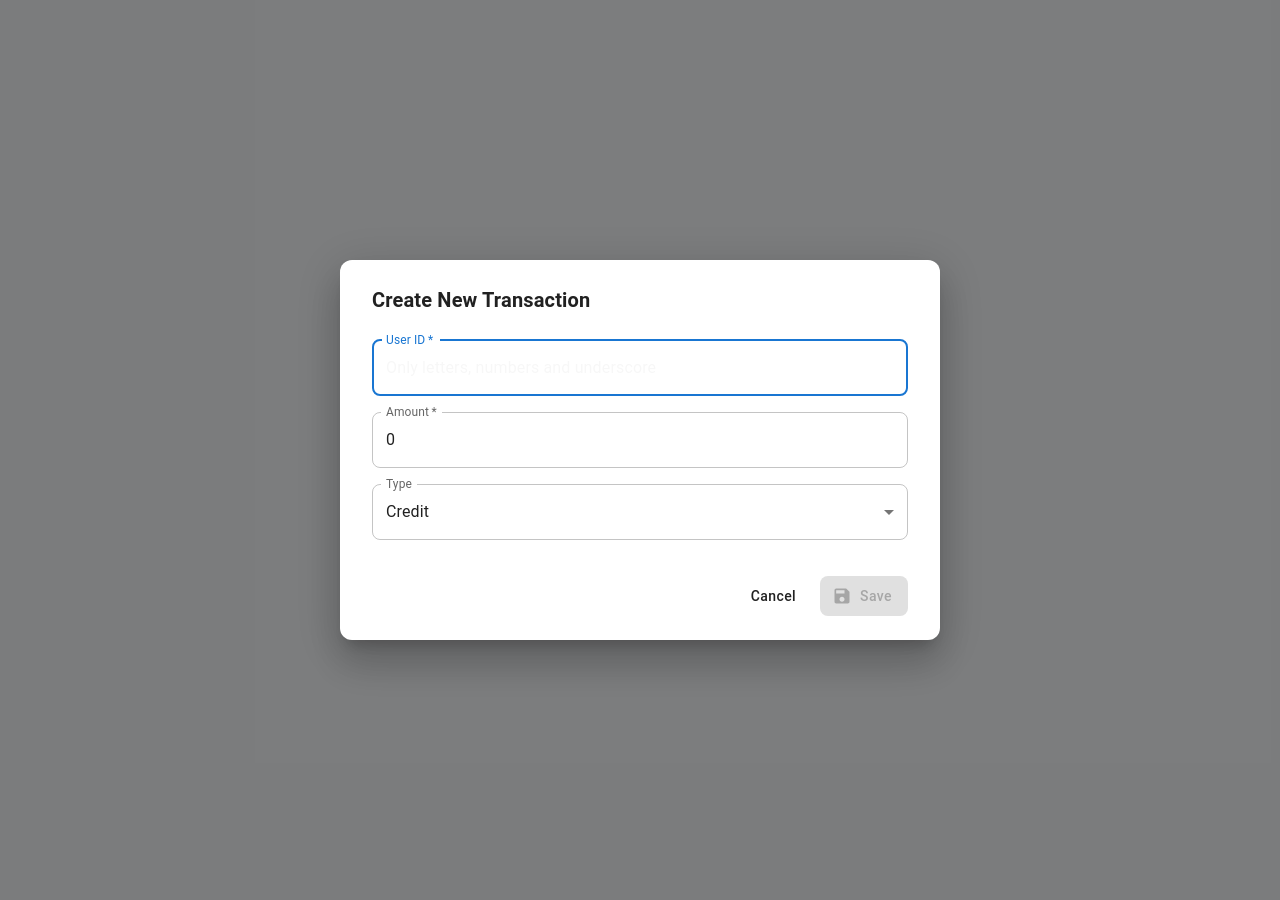
Test case: TransactionModal Component › should show error for invalid amount
The image size is (1280, 900).
Replace the text in the number field labelled "Amount *" with "10.5": (640, 440) x1=372 y1=412 x2=908 y2=468
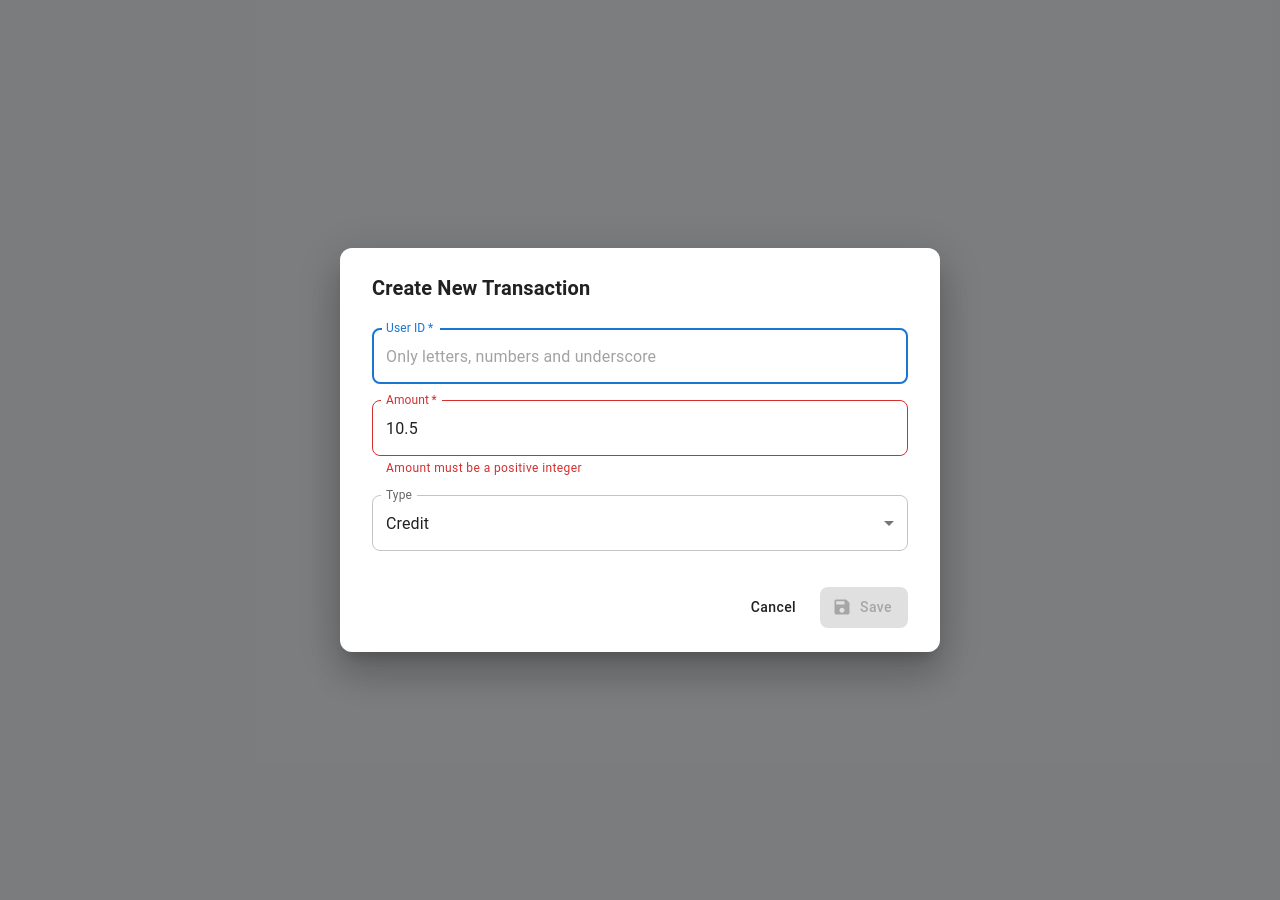
Check: the text "Amount must be a positive integer" is shown, box x1=386 y1=461 x2=582 y2=475
